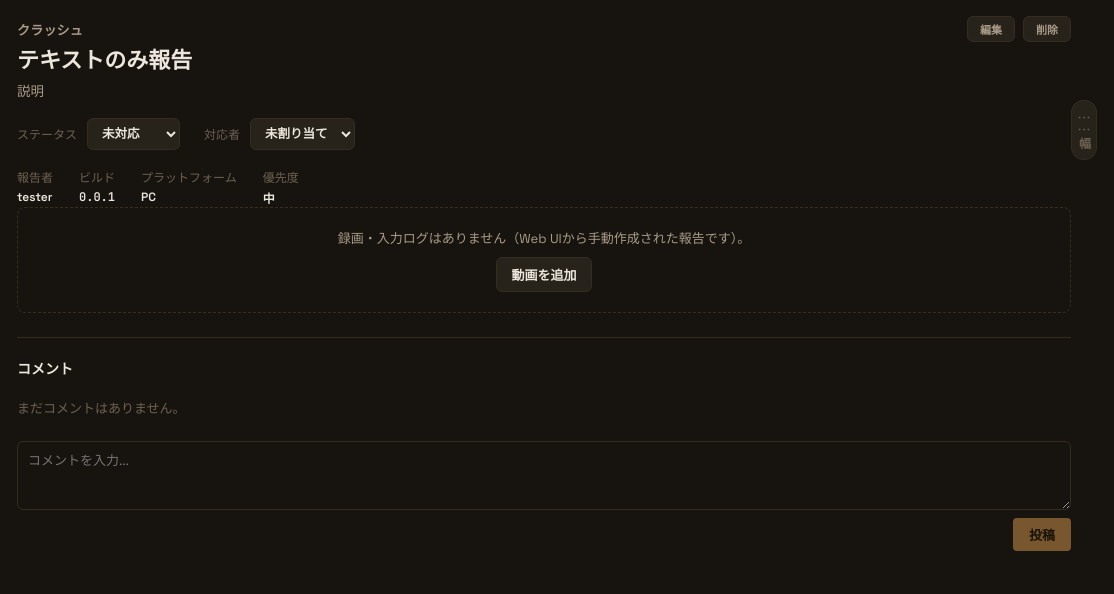
BugDetailPage - comment thread › shows an error message when posting a comment fails
Check: the text "まだコメントはありません。" is shown, box [17, 400, 186, 417]
Type "コメント本文" into the text box with placeholder "コメントを入力..." at (544, 476), box [17, 441, 1071, 510]
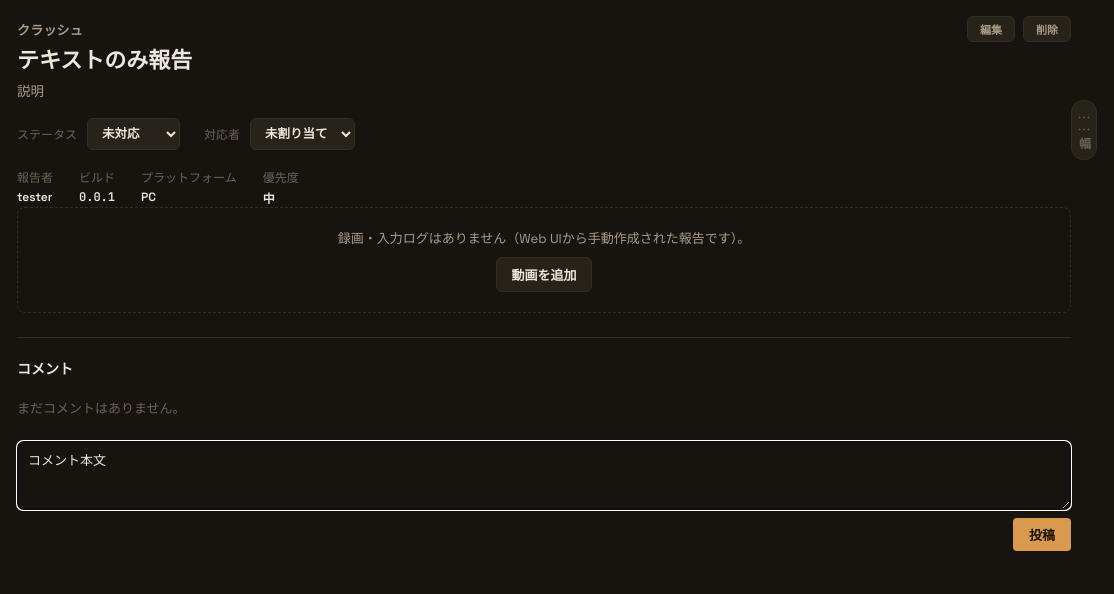
Click the button "投稿" at (1042, 535), box [1013, 518, 1071, 551]
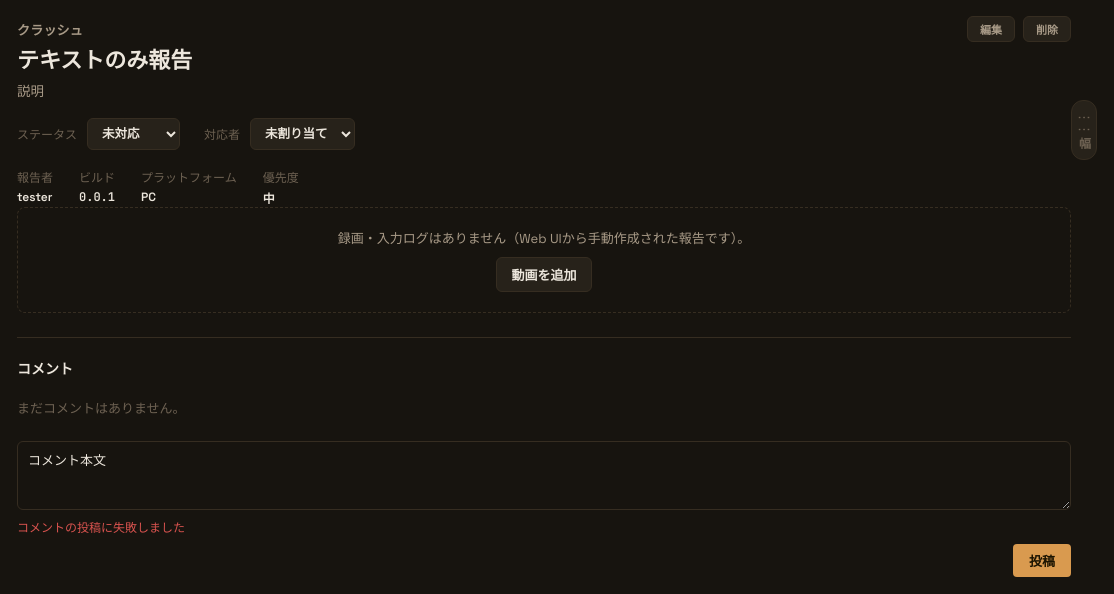
Check: the text "コメントの投稿に失敗しました" is shown, box [17, 520, 185, 536]
